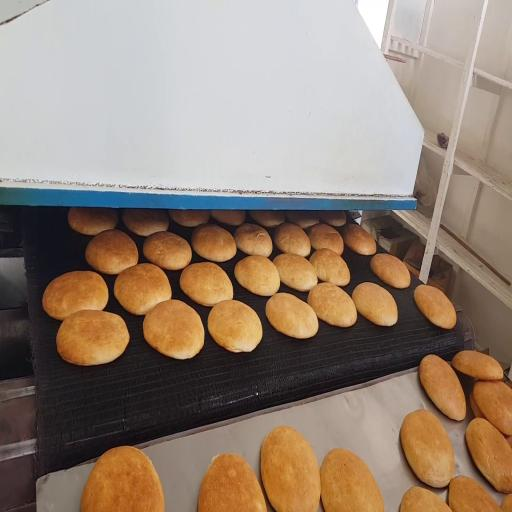bread: (81, 447, 164, 511), (261, 426, 320, 511), (400, 410, 454, 487), (320, 448, 384, 511), (57, 311, 129, 365), (198, 454, 266, 511), (143, 300, 204, 359), (466, 419, 511, 493), (43, 271, 108, 319), (419, 355, 466, 420), (114, 264, 171, 315), (208, 300, 262, 352), (266, 293, 318, 338), (180, 262, 233, 306), (86, 230, 138, 274), (308, 283, 357, 327), (473, 381, 511, 435), (352, 283, 397, 326), (414, 284, 456, 329), (143, 231, 191, 270), (235, 256, 280, 296), (449, 476, 499, 511), (192, 224, 236, 262), (274, 254, 317, 291), (310, 249, 350, 286), (452, 351, 503, 380), (68, 207, 118, 235), (371, 254, 410, 288), (123, 209, 169, 236), (234, 224, 272, 256), (400, 487, 450, 511), (274, 223, 310, 256), (308, 224, 343, 255), (343, 224, 376, 255), (168, 210, 209, 227), (250, 210, 285, 228), (286, 211, 319, 228), (211, 211, 245, 226), (320, 211, 346, 227), (470, 391, 485, 418), (470, 391, 484, 418), (501, 494, 511, 511)
